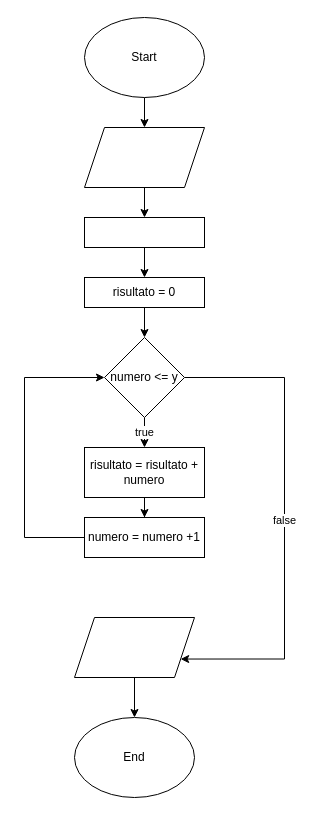
The diagram is 313 pixels wide and 815 high, and some of its shapes have lost their labels. Each missing label, with the centre of its shape:
"numero = x" goes at (144,232).
"Stampo risultato" goes at (134,647).
"x = leggi numero y = leggi numnero" goes at (144,157).
